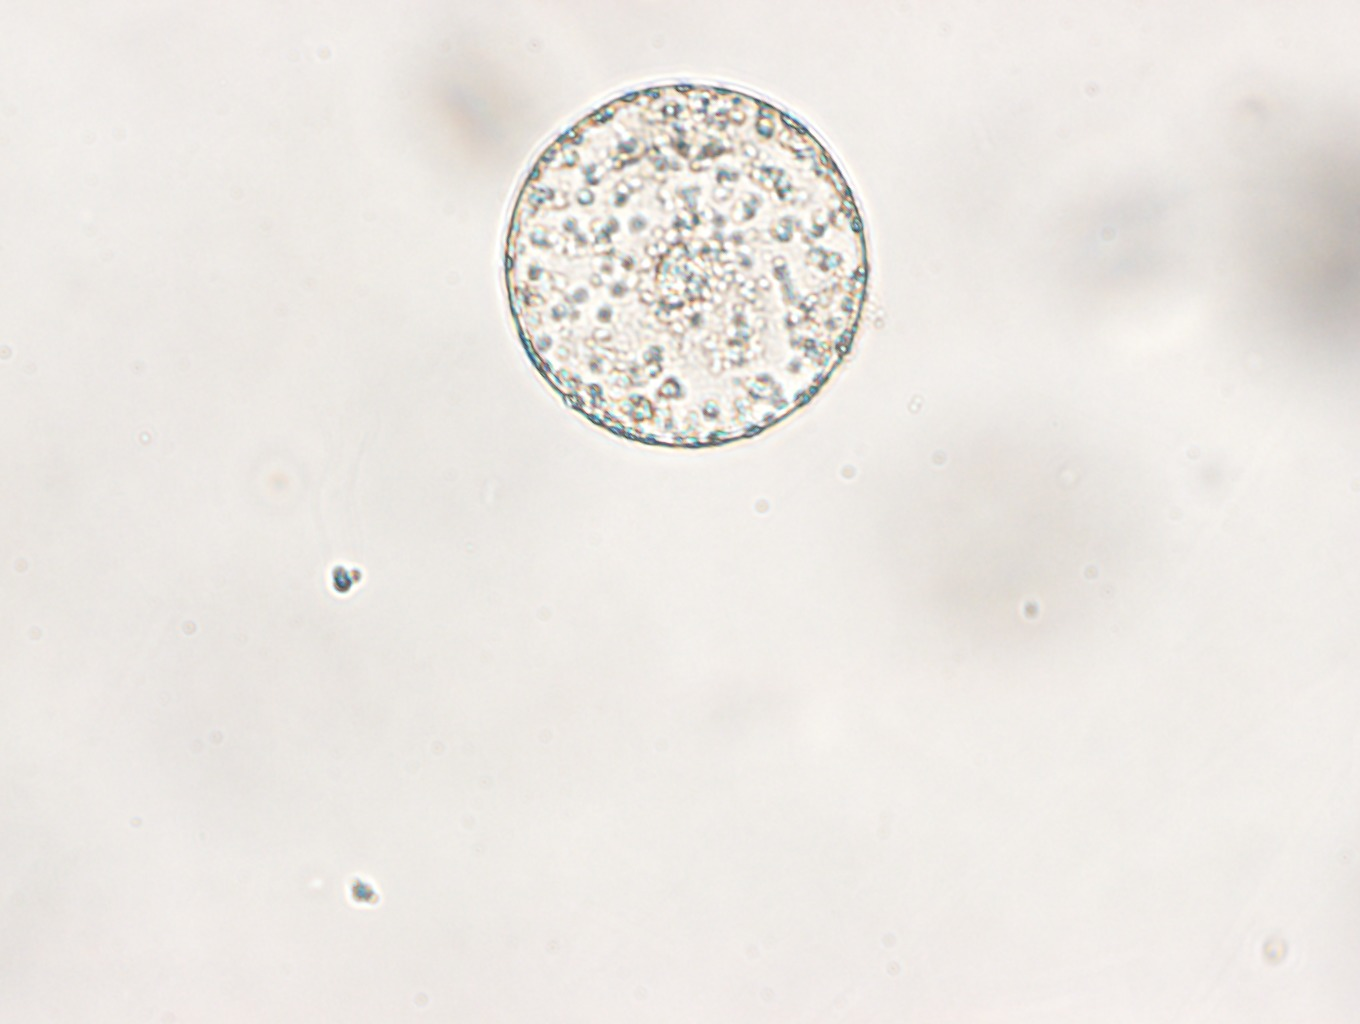coscinodiscus: (498, 75, 872, 452)
